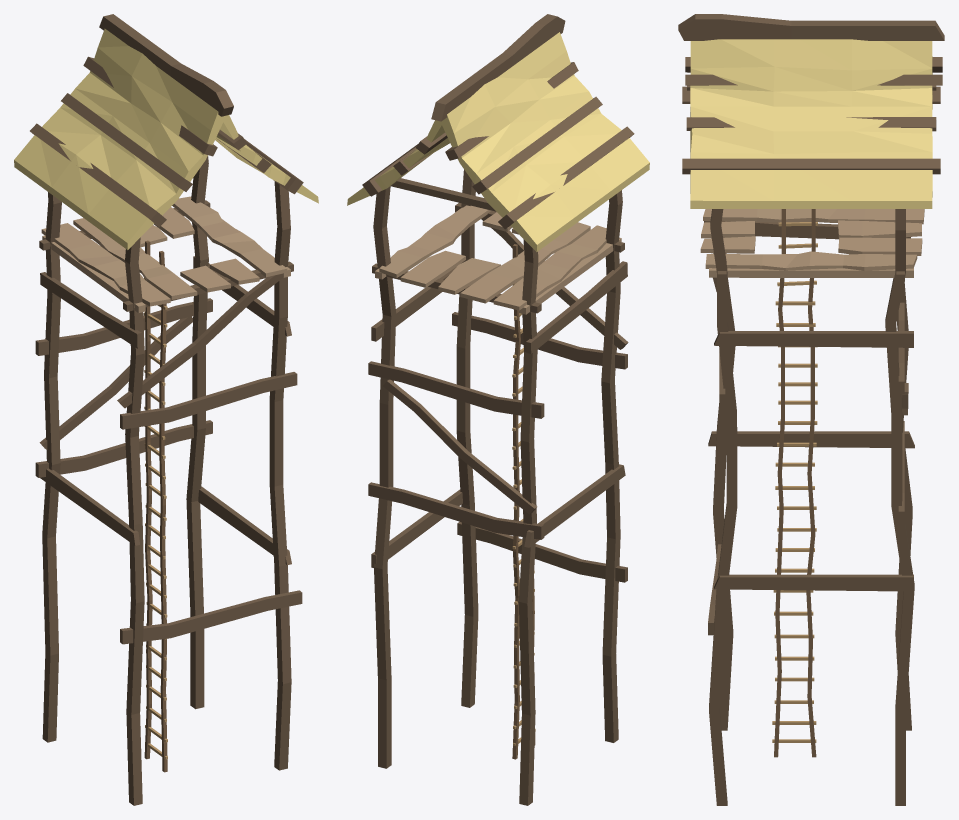
File: Tower.fbx
3 renders of one model, left to right at view 1: azimuth 30°, elevation 25°; view 2: azimuth 150°, elevation 25°; view 3: azimuth 270°, elevation 25°, orthographic. The views are drawn at different scales.
Parts seen in each view (by area): view 1: Tower, Stairs; view 2: Tower, Stairs; view 3: Tower, Stairs.
Boxes of the visible parts, x1,y1,x2,y2 form: Tower: (14,14,318,805); Stairs: (143,240,167,772); Tower: (347,14,649,805); Stairs: (512,244,535,759); Tower: (678,14,944,805); Stairs: (772,209,817,757).
Bounding box in the file's own units: 356 × 1251 × 403.
Materials: 1 (1 with a texture image).
